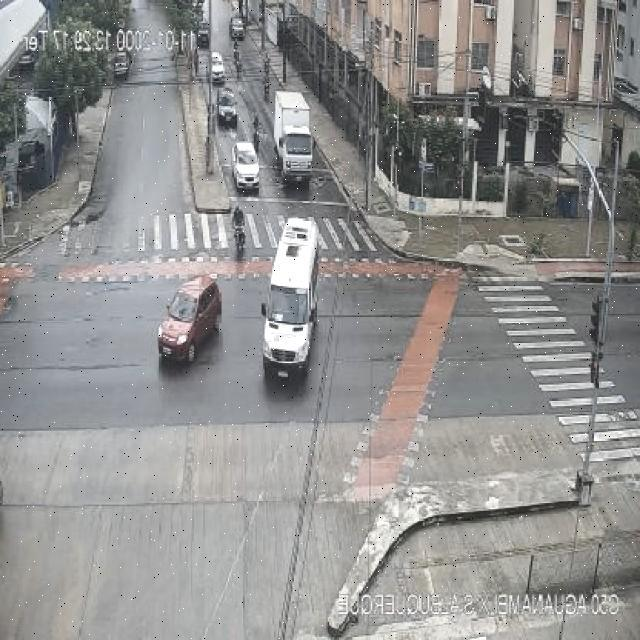Car: (158, 275, 222, 362), (230, 141, 264, 191), (17, 140, 47, 184), (216, 87, 239, 124), (112, 50, 132, 79), (209, 52, 226, 83), (195, 18, 211, 46), (230, 16, 245, 40)
Cycle: (232, 220, 246, 256), (253, 127, 261, 150), (263, 81, 271, 102)
Truck: (272, 89, 316, 186)
Van: (258, 215, 320, 383)
